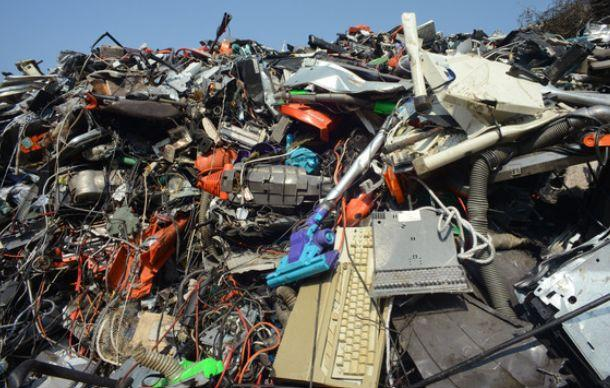electronic: (273, 224, 390, 387), (519, 220, 610, 384), (435, 52, 550, 126), (369, 209, 467, 292), (195, 295, 268, 380), (227, 166, 325, 211), (35, 227, 113, 275), (382, 125, 464, 170), (127, 311, 184, 364), (93, 307, 135, 365), (68, 169, 119, 206), (339, 224, 376, 274), (196, 276, 244, 314), (372, 210, 454, 231), (219, 122, 268, 152), (237, 56, 265, 107), (62, 300, 97, 336), (194, 146, 236, 174), (13, 185, 40, 226), (161, 179, 201, 206), (108, 206, 140, 239), (274, 285, 298, 325), (200, 234, 226, 267), (84, 142, 116, 162), (21, 131, 50, 153), (284, 133, 315, 153), (201, 116, 220, 143), (358, 176, 383, 196), (31, 253, 54, 273), (414, 95, 433, 117), (373, 101, 398, 115), (140, 294, 159, 310), (163, 143, 178, 162), (242, 185, 254, 202), (235, 207, 249, 220), (287, 90, 315, 96)
